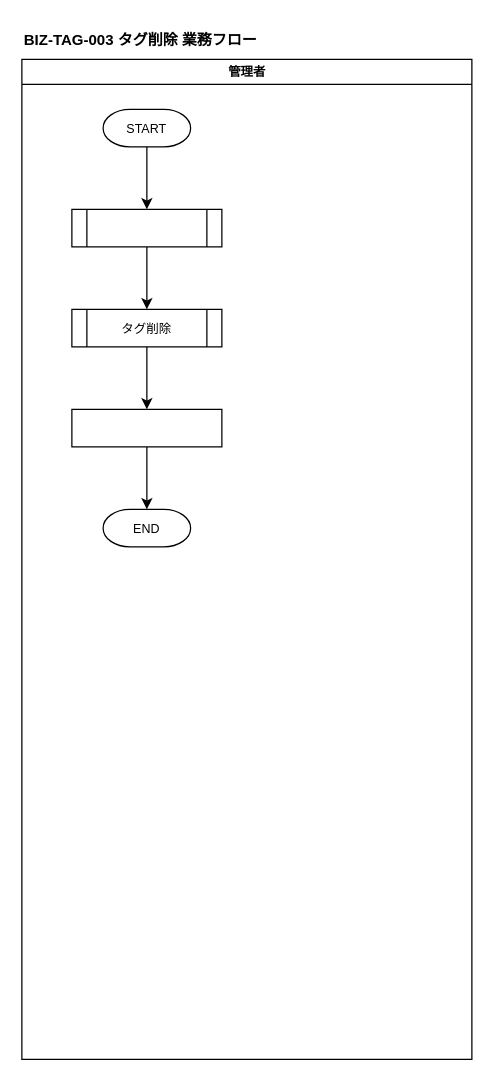
Image size: 494x1081. Some labels were removed from this diagram. Each missing label, with the centre of its shape:
削除結果確認: the point at 146,427
対象タグ選択: the point at 146,227
